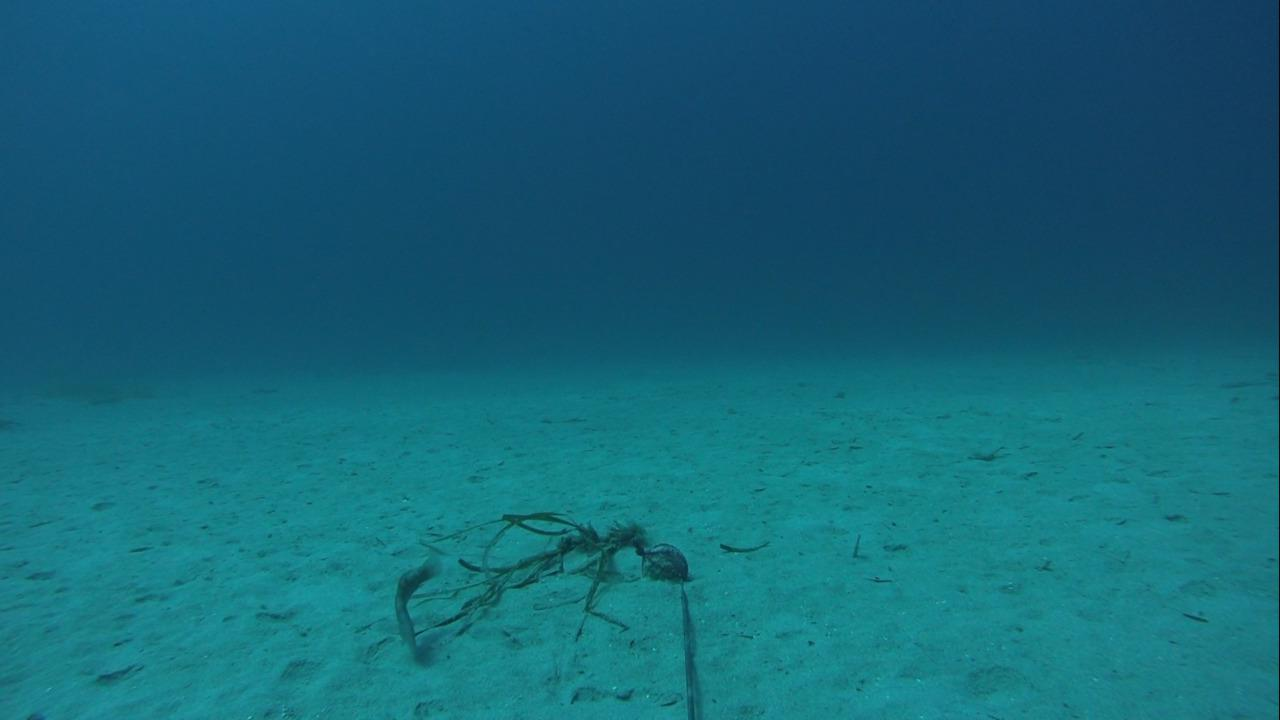raor: (389, 550, 447, 662)
